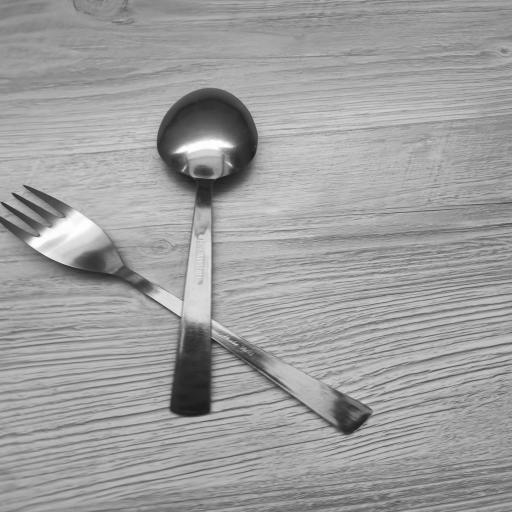fork: (6, 182, 376, 436)
spoon: (142, 90, 249, 411)
